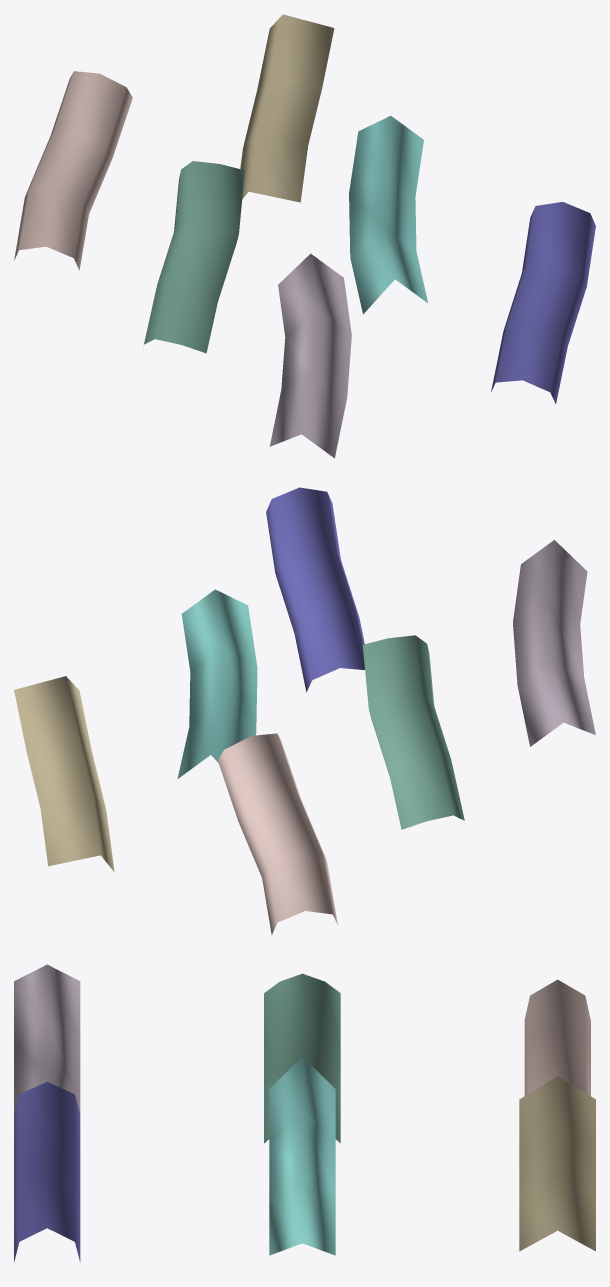
File: std_nrmled_mats_2_PolyLineTest_2023-06-04-21-23-01.gltf
The picture shows the model from 3 angles, top to bottom: view 1: azimuth 30°, elevation 25°; view 2: azimuth 150°, elevation 25°; view 3: azimuth 270°, elevation 25°; orthographic projection.
Bounding box in the file's own units: 290 × 160 × 456.
